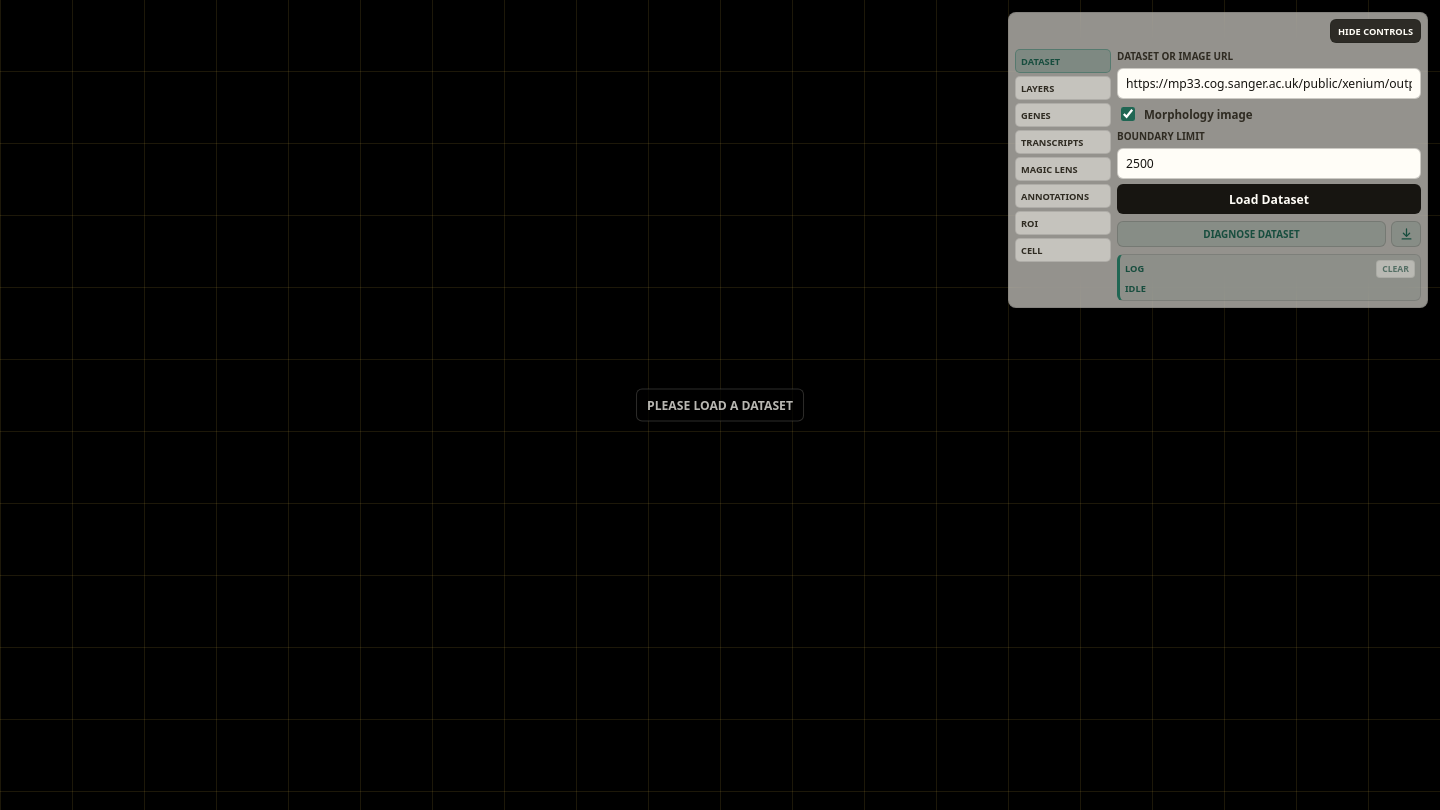
Scenario: App › records compact debug activity entries
Check: the text "Idle" is shown, box [1125, 282, 1146, 295]
Click the tab "Layers". click: [1063, 88]
box: [1015, 76, 1111, 100]
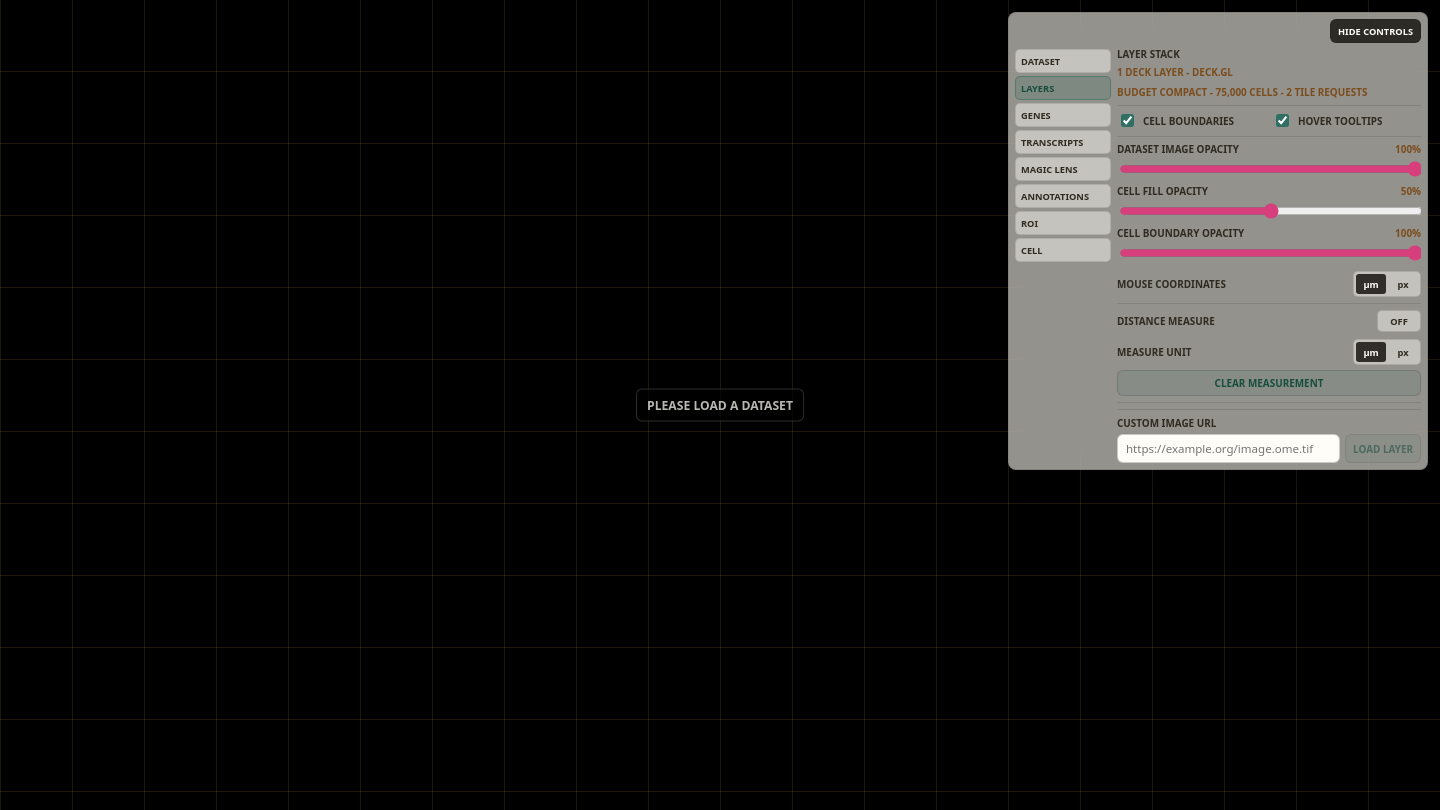
Set the slider labelled "Dataset image opacity" to "45". click: [1257, 169]
box: [1119, 161, 1423, 177]
Click the button "px" in the row of "Mouse coordinates". click: [1403, 284]
box: [1388, 274, 1418, 294]
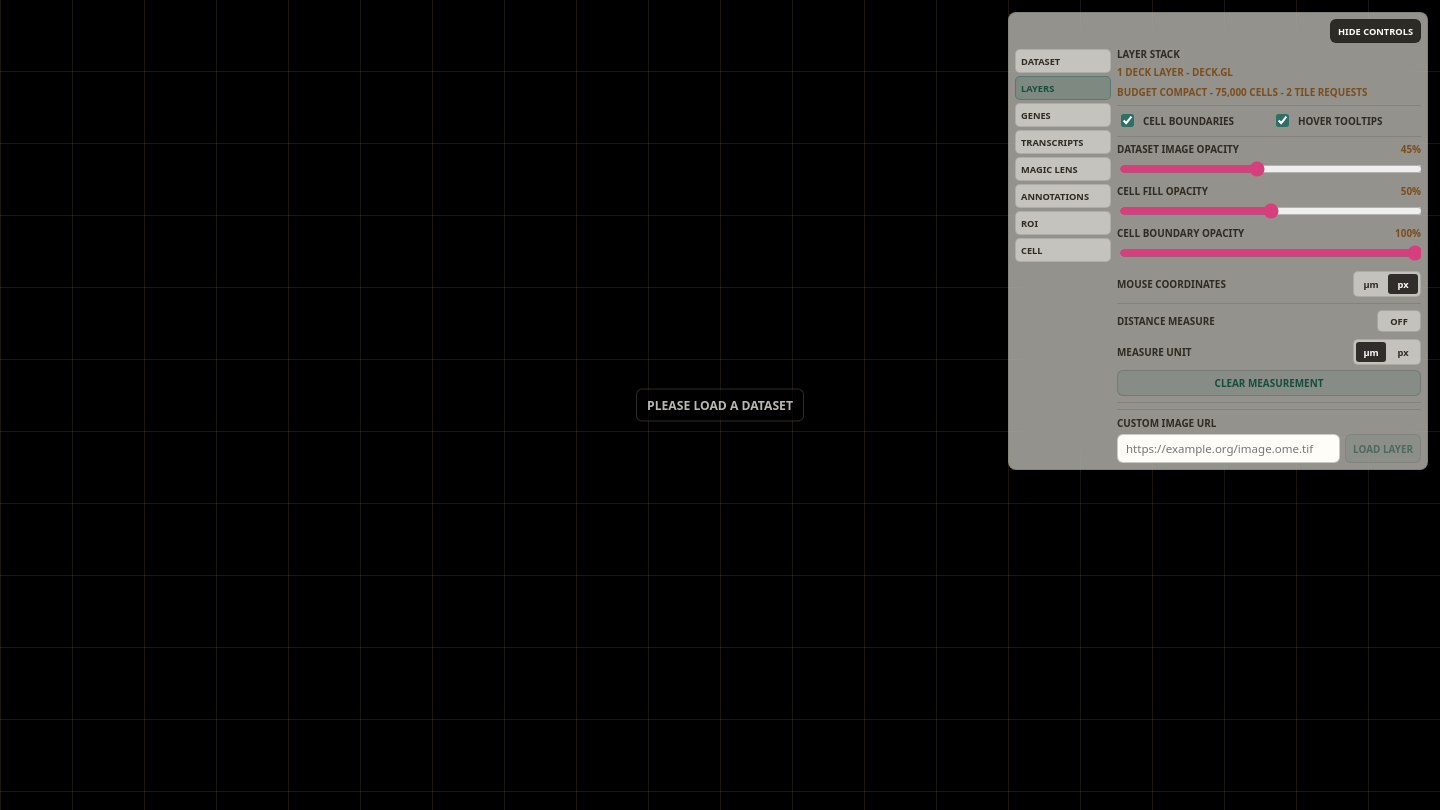
Click the button with aria-label "Distance measure". click: [1399, 321]
box: [1377, 310, 1421, 332]
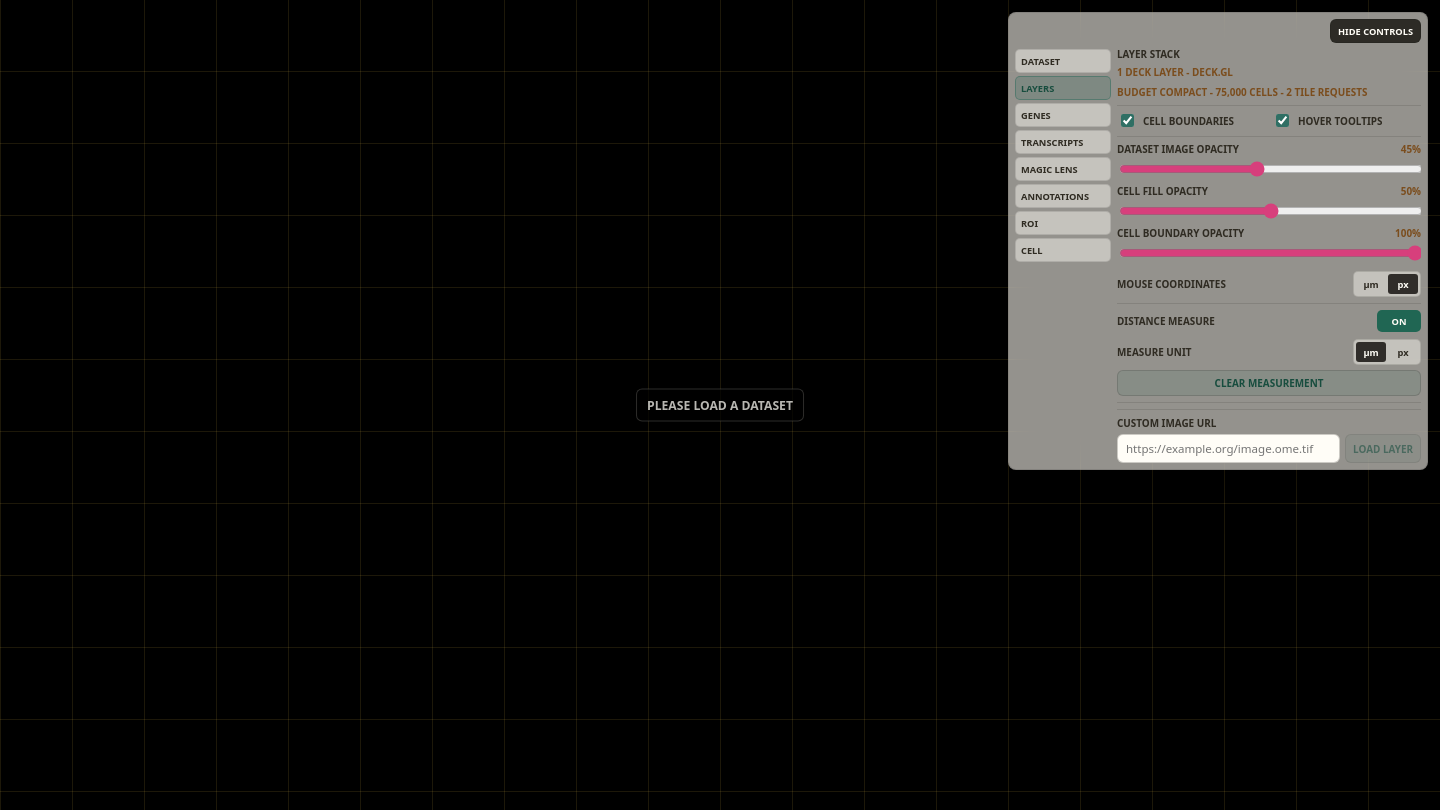
Click the button "px" in the row of "Measure unit". click: [1403, 352]
box: [1388, 342, 1418, 362]
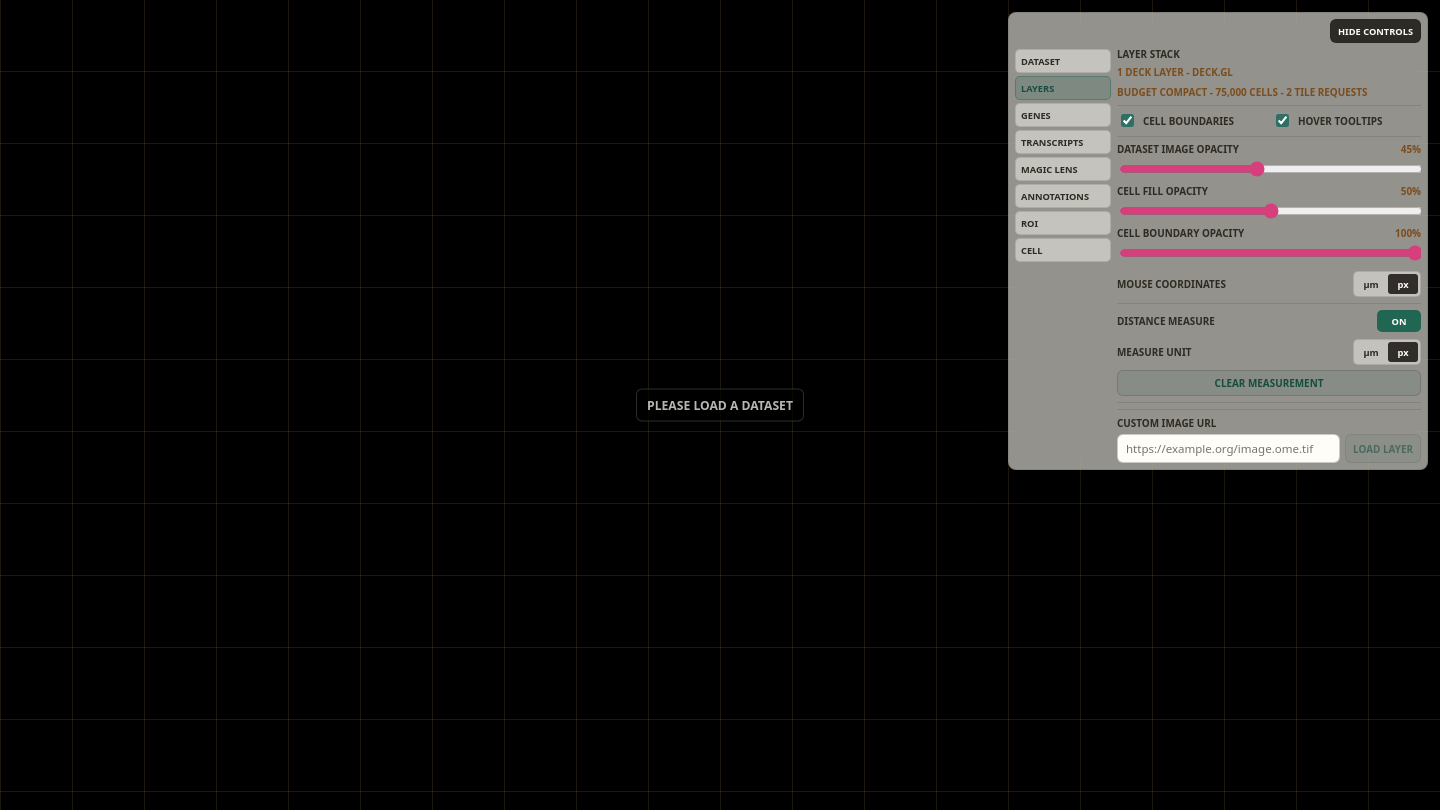
Click the tab "Dataset". click: [1063, 61]
box: [1015, 49, 1111, 73]
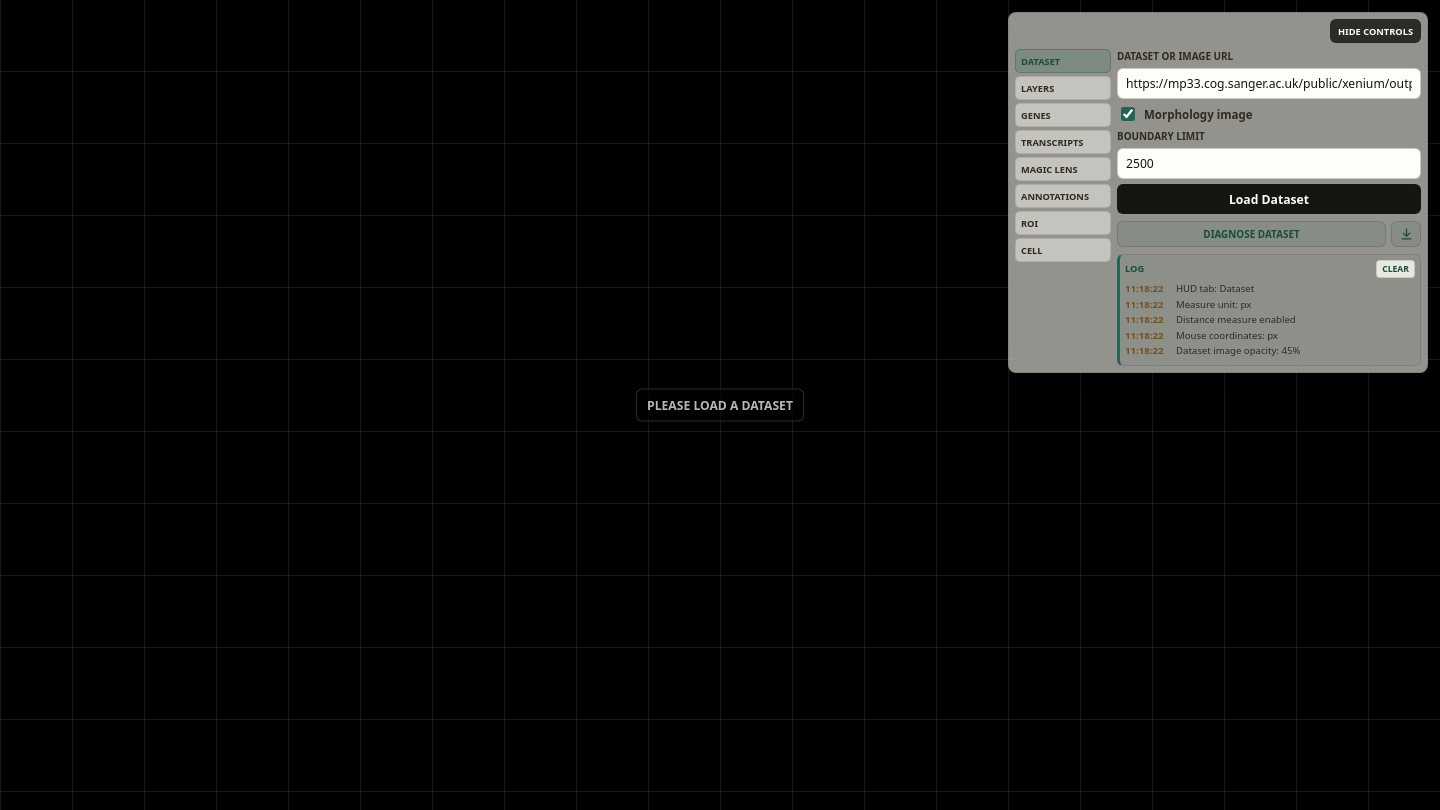
Check: the text "Dataset image opacity: 45%" is shown, box [1176, 344, 1300, 357]
Check: the text "Mouse coordinates: px" is shown, box [1176, 329, 1278, 342]
Check: the text "Distance measure enabled" is shown, box [1176, 313, 1296, 326]
Click the button "Clear". click: [1396, 269]
box: [1376, 260, 1415, 278]
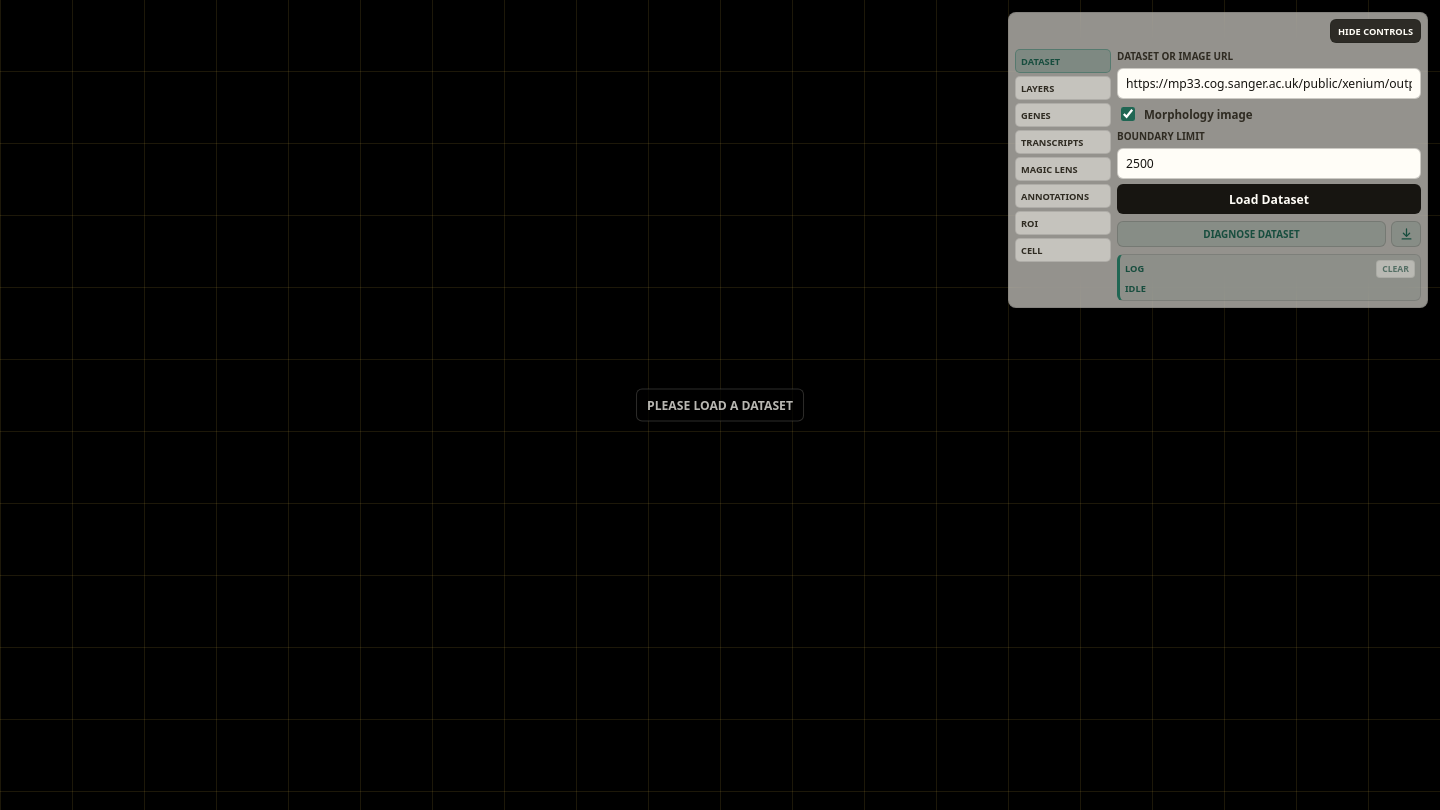
Check: the text "Idle" is shown, box [1125, 282, 1146, 295]
